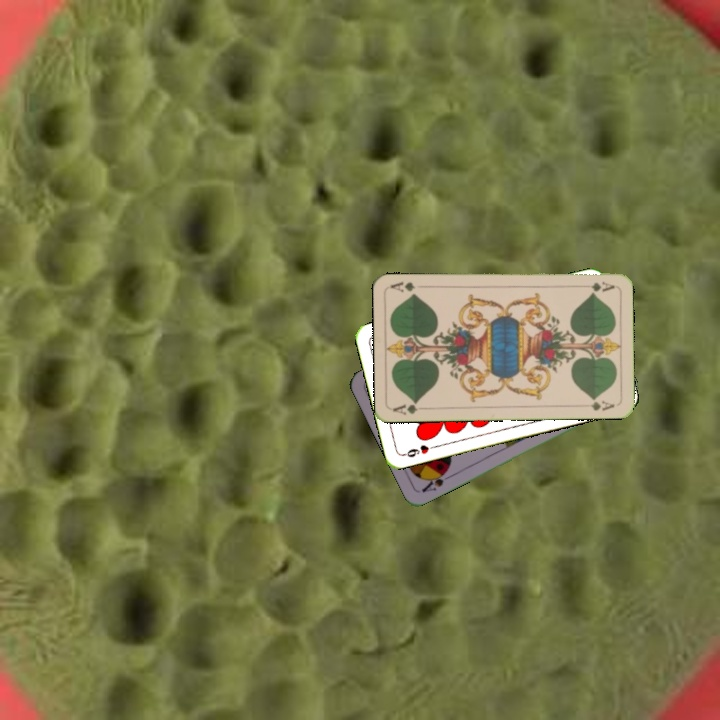GA: (389, 397, 430, 417), (576, 277, 617, 293)
H9: (399, 440, 439, 460)
SA: (417, 466, 455, 495)
